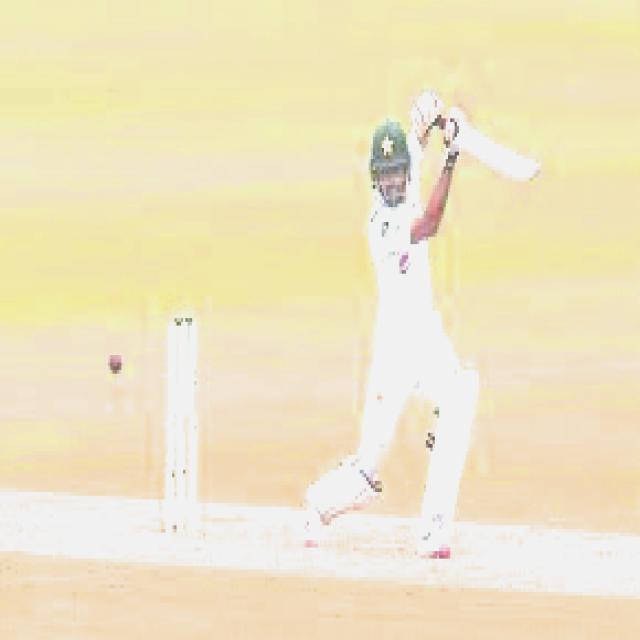toe: (504, 147, 538, 195)
